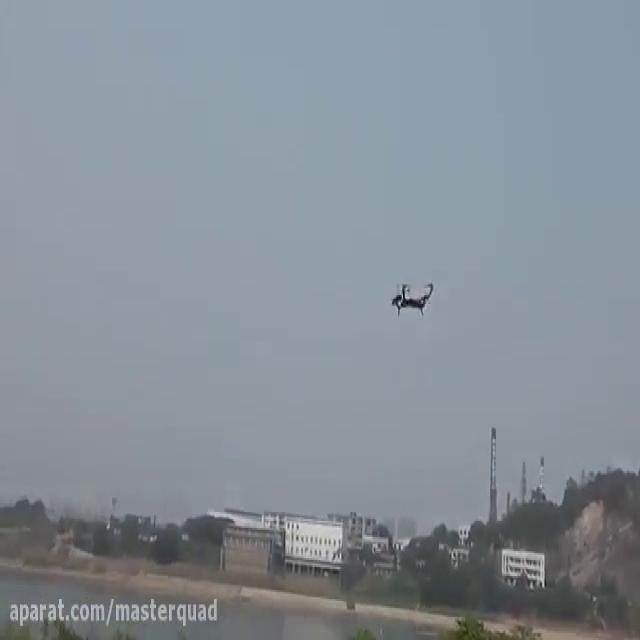drone: (385, 272, 436, 318)
